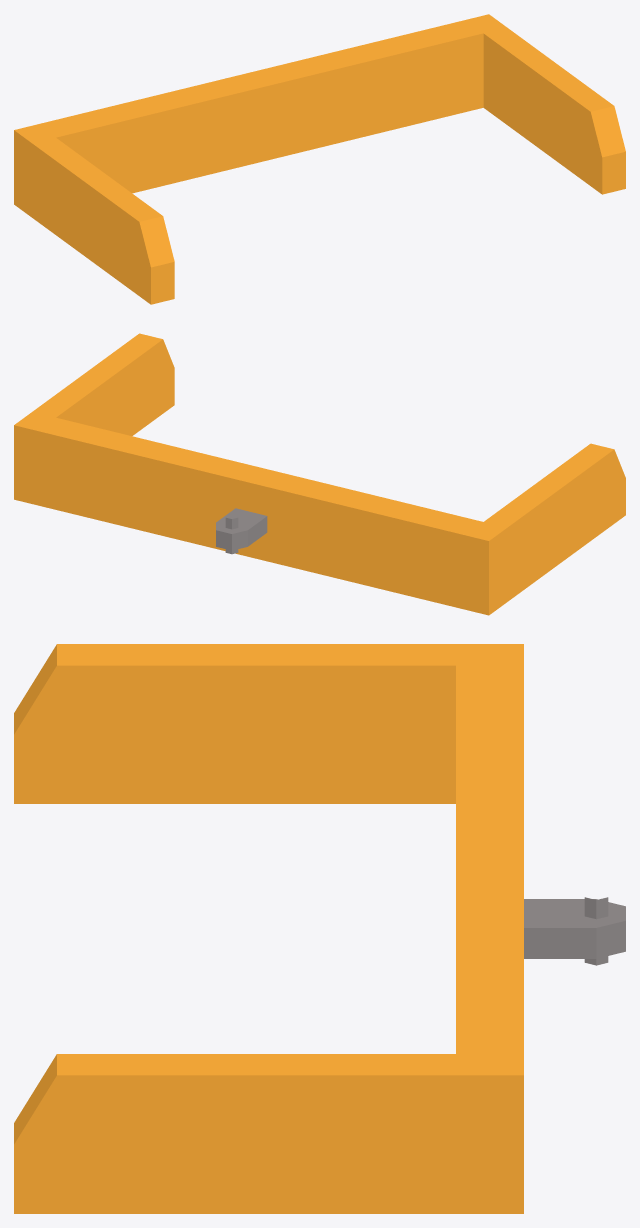
Rendered from road-roller-wheel-frame_F.glb.
The picture shows the model from 3 angles, top to bottom: view 1: azimuth 30°, elevation 25°; view 2: azimuth 150°, elevation 25°; view 3: azimuth 270°, elevation 25°; orthographic projection. The views are drawn at different scales.
Visible parts, largest first — view 1: road-roller-wheel-frame_F; view 2: road-roller-wheel-frame_F; view 3: road-roller-wheel-frame_F.
Part boxes in pixels (x1,y1,x2,y2): road-roller-wheel-frame_F: [14, 14, 625, 304]; road-roller-wheel-frame_F: [14, 333, 625, 615]; road-roller-wheel-frame_F: [14, 644, 625, 1213].
Size of the model in its own units: 3 by 0.4496 by 1.8.
1 material, 1 textured.
